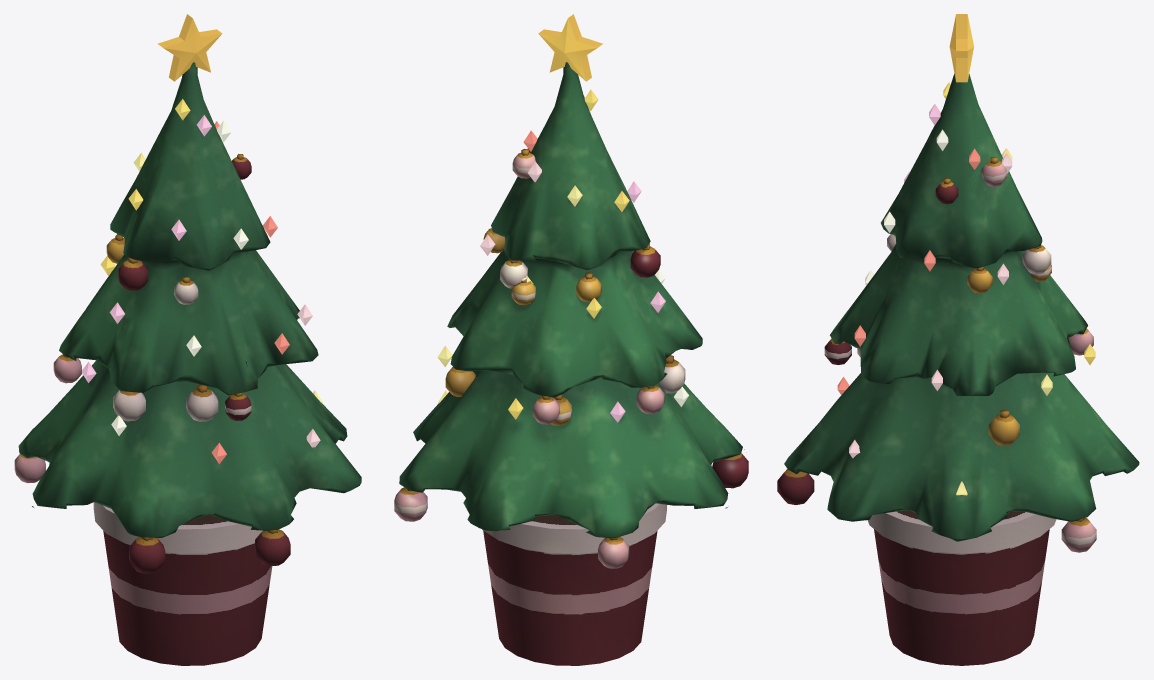
Rendered from tree_potted.glb.
The picture shows the model from 3 angles, left to right: view 1: azimuth 30°, elevation 25°; view 2: azimuth 150°, elevation 25°; view 3: azimuth 270°, elevation 25°; orthographic projection.
Parts seen in each view (by area): view 1: Foliage, Pot, Ornaments, Lights, Star; view 2: Foliage, Pot, Ornaments, Lights, Star; view 3: Foliage, Pot, Ornaments, Lights, Star.
Boxes of the visible parts, <box> form: Foliage: <box>18,62,361,542</box>; Pot: <box>93,502,272,665</box>; Ornaments: <box>14,154,290,573</box>; Lights: <box>82,99,322,464</box>; Star: <box>157,14,222,81</box>; Foliage: <box>399,62,744,538</box>; Pot: <box>482,503,666,665</box>; Ornaments: <box>394,148,748,568</box>; Lights: <box>437,89,688,422</box>; Star: <box>538,14,602,81</box>; Foliage: <box>784,74,1139,541</box>; Pot: <box>867,510,1056,665</box>; Ornaments: <box>777,157,1096,552</box>; Lights: <box>837,82,1095,495</box>; Star: <box>949,14,973,82</box>.
Size of the model in its own units: 0.8044 by 1.52 by 0.8014.
2 materials, 2 textured.
